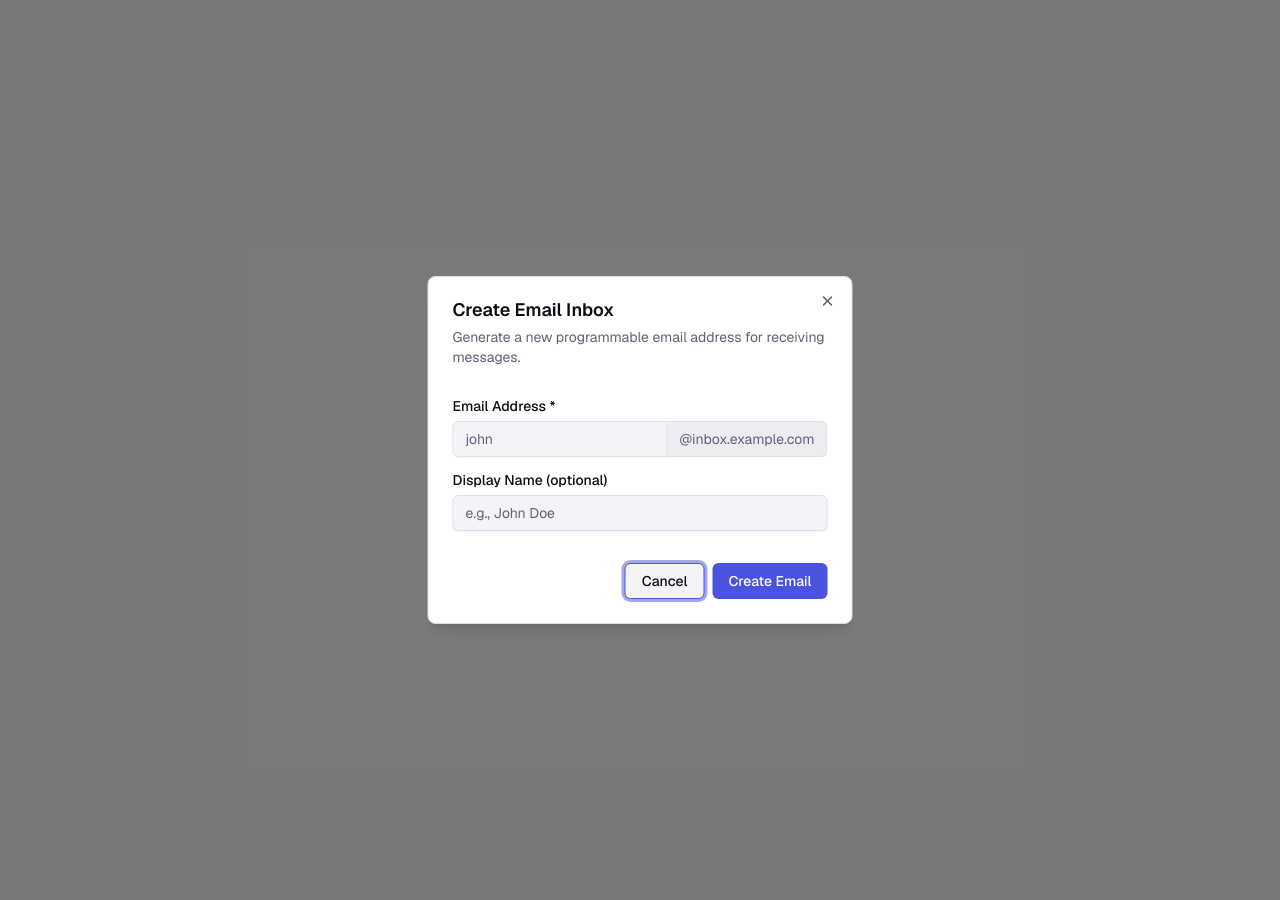
it: CreateEmailDialog — exactly one configured domain › never lets the user type a domain — an @ in the local part is rejected
The image size is (1280, 900).
Type "qa@gmail.com" into the field labelled "Email Address *".
click(560, 439); type("qa@gmail.com")  # box [452,421,667,457]
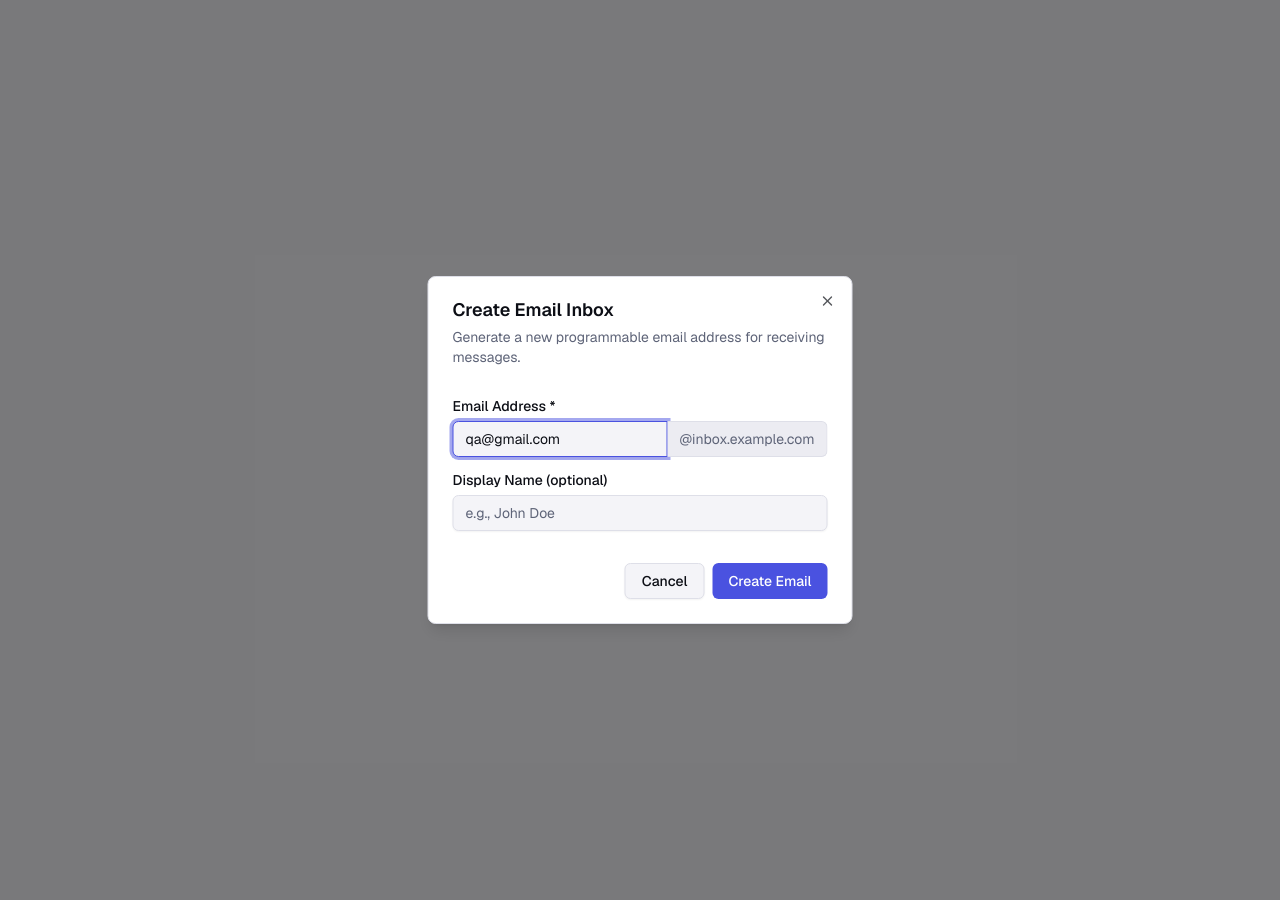
Click the button "Create Email".
click(770, 581)  # box [712,563,828,599]
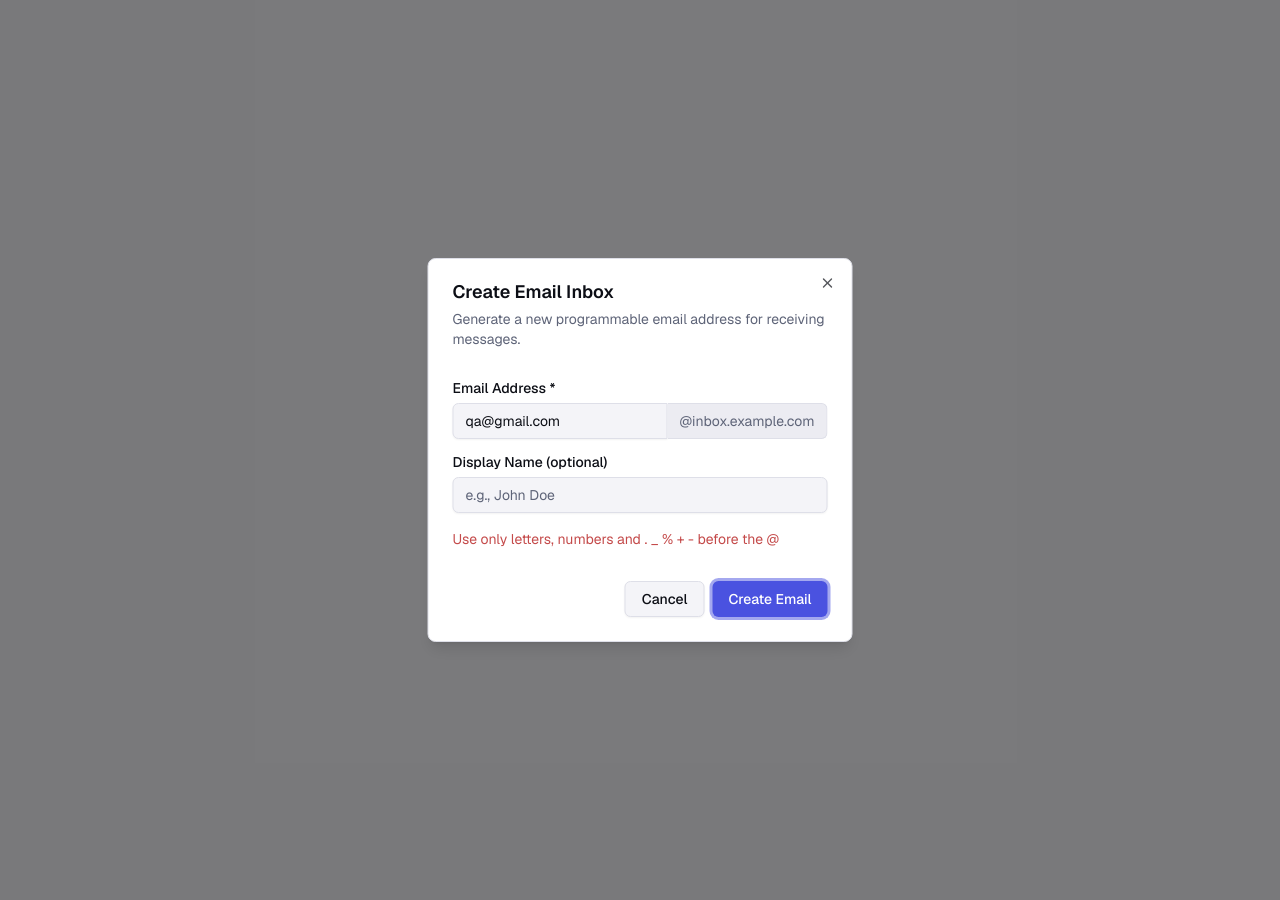
Check: the message "Use only letters, numbers and . _ % + - before the @" is shown, box [452,529,828,549]
